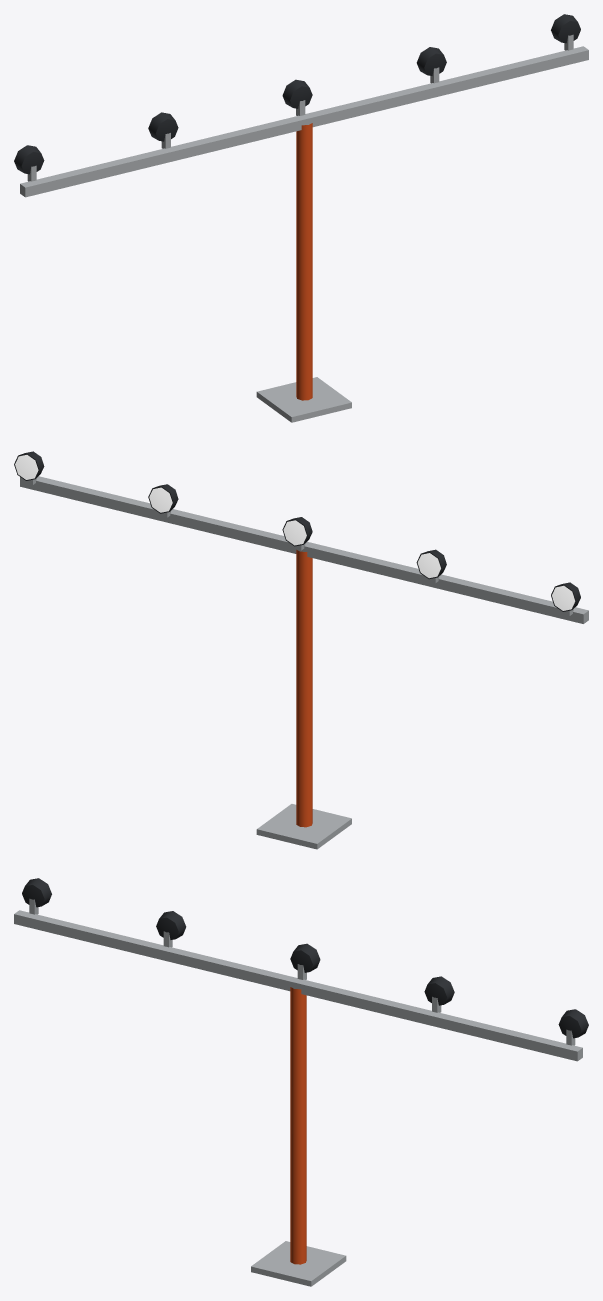
File: approach_light_bar.glb
3 renders of one model, top to bottom at view 1: azimuth 30°, elevation 25°; view 2: azimuth 150°, elevation 25°; view 3: azimuth 330°, elevation 25°, orthographic.
Parts seen in each view (by area): view 1: LOD0; view 2: LOD0; view 3: LOD0.
Boxes of the visible parts, x1=… form: LOD0: x1=14, y1=14, x2=588, y2=422; LOD0: x1=14, y1=451, x2=588, y2=849; LOD0: x1=14, y1=878, x2=588, y2=1286.
Size of the model in its own units: 4.2 by 2.25 by 0.4502.
4 materials, 1 textured.
